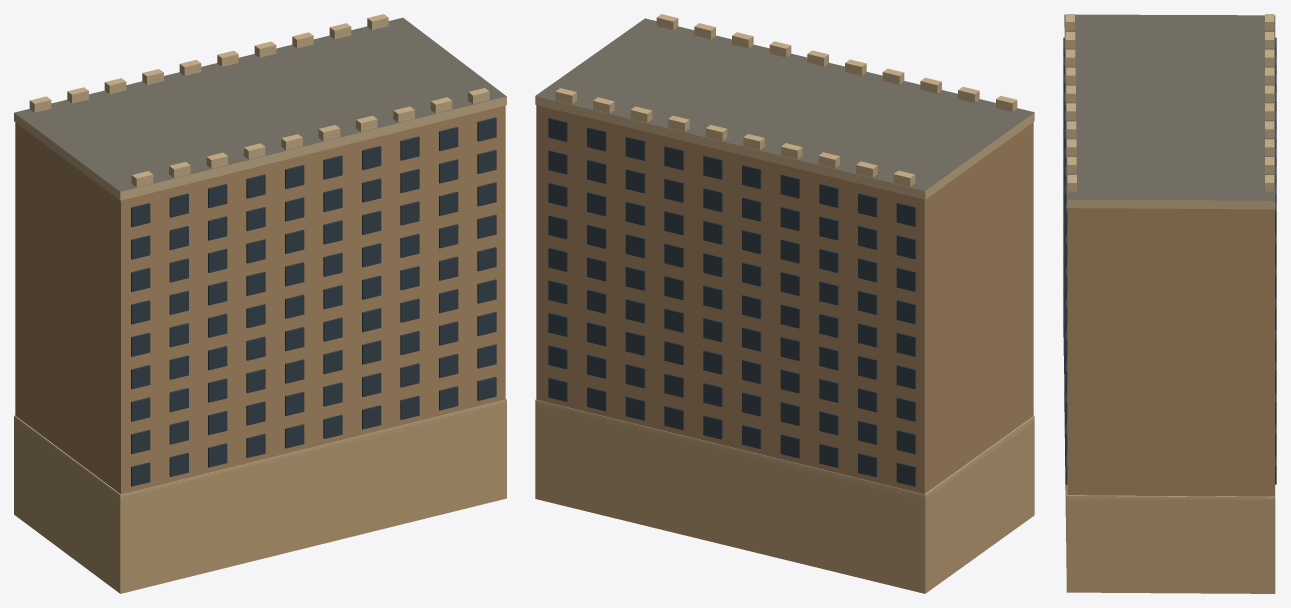
File: 143_south_main_street.glb
The picture shows the model from 3 angles, left to right: view 1: azimuth 30°, elevation 25°; view 2: azimuth 150°, elevation 25°; view 3: azimuth 270°, elevation 25°; orthographic projection. The views are drawn at different scales.
Parts seen in each view (by area): view 1: 143_South_Main_Street; view 2: 143_South_Main_Street; view 3: 143_South_Main_Street.
Boxes of the visible parts, box(x1,y1,x2,y2) form: 143_South_Main_Street: box(14, 14, 506, 593); 143_South_Main_Street: box(535, 14, 1034, 593); 143_South_Main_Street: box(1063, 14, 1276, 593).
Size of the model in its own units: 46.66 by 46.9 by 22.6.
